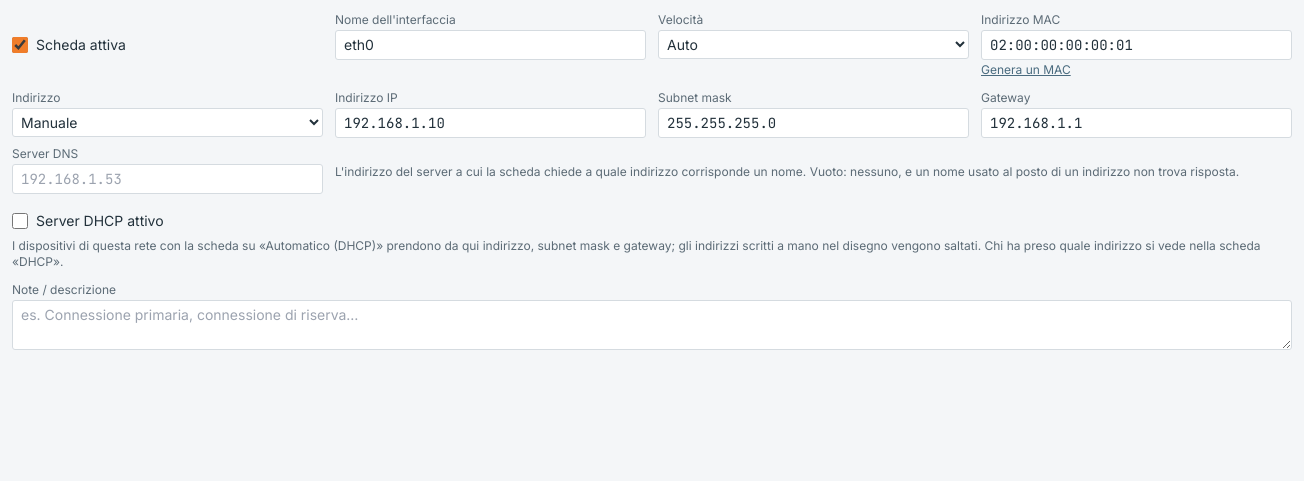
NicEditor — the DHCP server of a card › says what is wrong with the range under its fields
Step 1. Click the checkbox labelled "Server DHCP attivo" → (20, 221), box [12, 213, 28, 229]
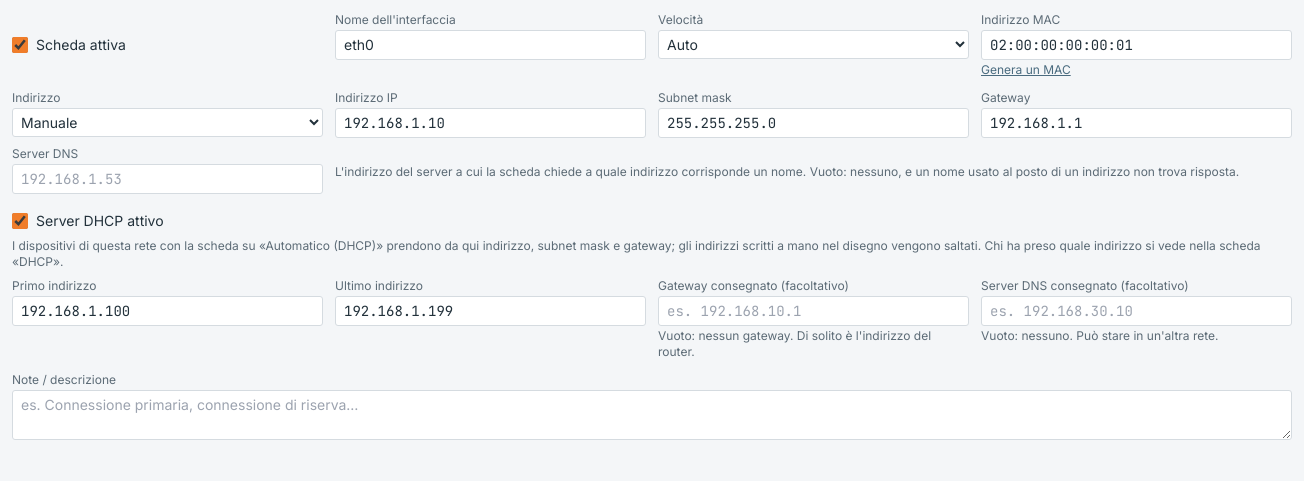
Step 2. Replace the text in the field labelled "Primo indirizzo" with "192.168.9.50" → (168, 311), box [12, 296, 323, 326]
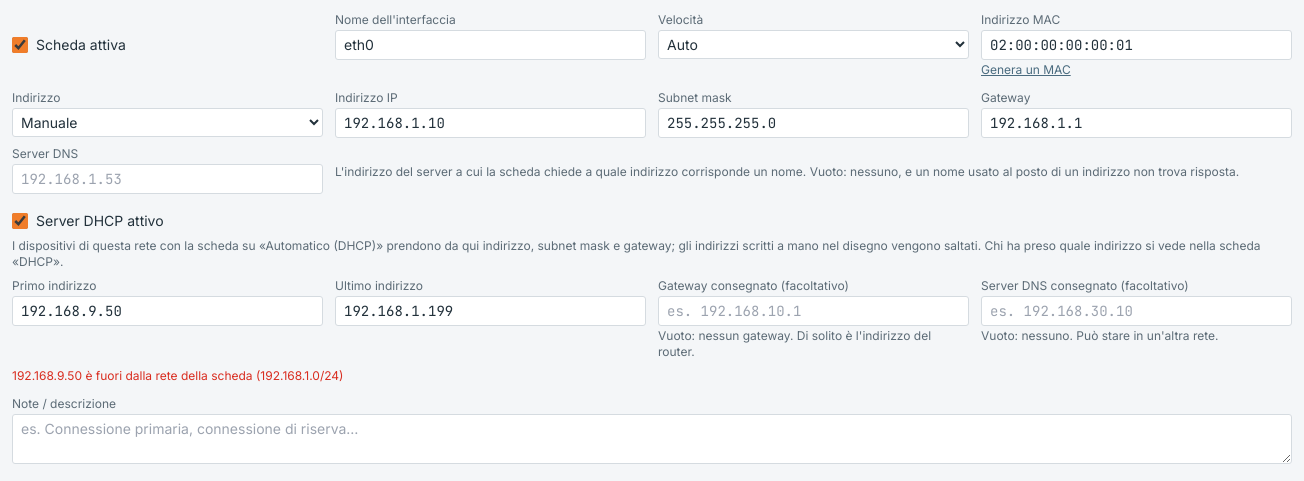
Check: the message reads "192.168.9.50 è fuori dalla rete della scheda (192.168.1.0/24)", box [12, 368, 344, 383]
